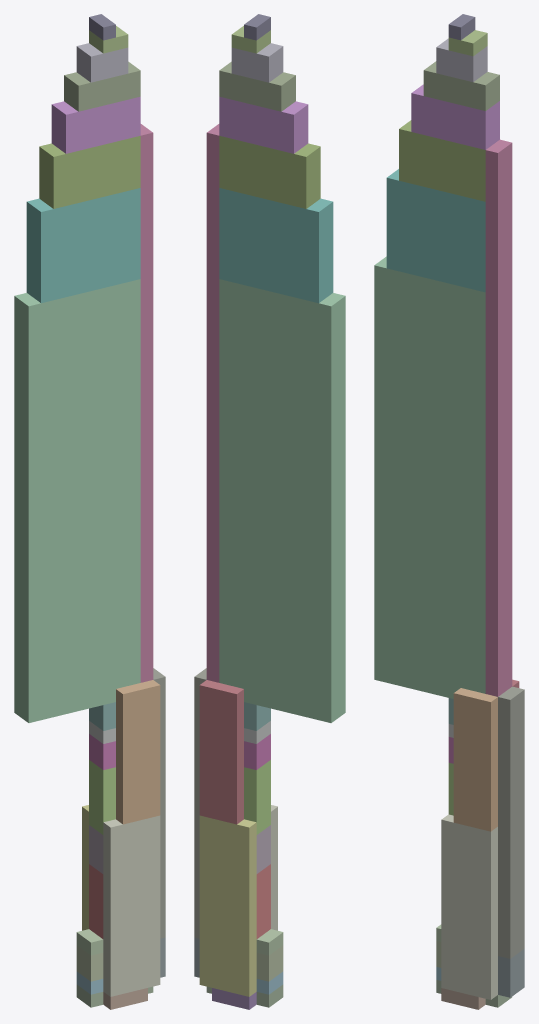
File: CubikModel.obj
3 renders of one model, left to right at view 1: azimuth 30°, elevation 25°; view 2: azimuth 150°, elevation 25°; view 3: azimuth 330°, elevation 25°, orthographic.
Parts seen in each view (by area): view 1: Element #14, Element #15, Element #4, Element #10, Element #7, Element #16, Element #17, Element #18, Element #2, Element #25, Element #20, Element #24 (+12 smaller); view 2: Element #14, Element #15, Element #5, Element #10, Element #8, Element #16, Element #17, Element #18, Element #2, Element #25, Element #20, Element #24 (+12 smaller); view 3: Element #14, Element #10, Element #4, Element #15, Element #2, Element #7, Element #16, Element #17, Element #18, Element #20, Element #1, Element #21 (+2 smaller).
Part boxes in pixels (bbox=[...]): Element #14: bbox=[14, 279, 140, 722]; Element #15: bbox=[26, 188, 140, 303]; Element #4: bbox=[103, 815, 160, 996]; Element #10: bbox=[140, 124, 153, 682]; Element #7: bbox=[116, 680, 160, 824]; Element #16: bbox=[39, 136, 140, 208]; Element #17: bbox=[51, 96, 140, 153]; Element #18: bbox=[64, 61, 140, 111]; Element #2: bbox=[153, 668, 165, 938]; Element #25: bbox=[89, 760, 115, 834]; Element #20: bbox=[76, 43, 128, 82]; Element #24: bbox=[89, 864, 103, 938]; Element #14: bbox=[219, 279, 345, 722]; Element #15: bbox=[219, 188, 333, 303]; Element #5: bbox=[199, 815, 256, 996]; Element #10: bbox=[206, 124, 219, 682]; Element #8: bbox=[199, 680, 243, 824]; Element #16: bbox=[219, 136, 320, 208]; Element #17: bbox=[219, 96, 308, 153]; Element #18: bbox=[219, 61, 295, 111]; Element #2: bbox=[194, 668, 206, 938]; Element #25: bbox=[244, 760, 270, 834]; Element #20: bbox=[231, 43, 283, 82]; Element #24: bbox=[256, 864, 270, 938]; Element #14: bbox=[374, 256, 485, 698]; Element #10: bbox=[485, 139, 512, 696]; Element #4: bbox=[441, 814, 497, 999]; Element #15: bbox=[386, 169, 485, 292]; Element #2: bbox=[498, 686, 524, 958]; Element #7: bbox=[453, 688, 497, 831]; Element #16: bbox=[399, 120, 485, 201]; Element #17: bbox=[411, 84, 499, 149]; Element #18: bbox=[423, 61, 499, 110]; Element #20: bbox=[436, 38, 487, 81]; Element #1: bbox=[498, 949, 524, 997]; Element #21: bbox=[448, 30, 487, 56].
Size of the model in its own units: 1.38 by 9.38 by 0.5.
